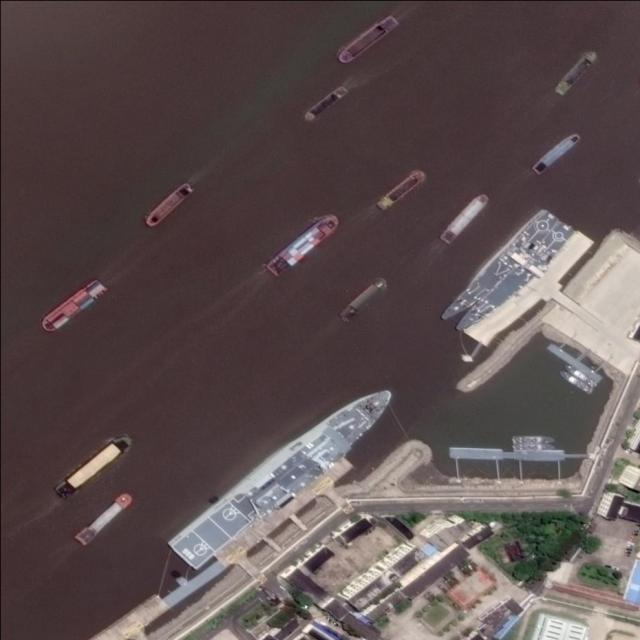Container Ship: (54, 430, 133, 502), (268, 210, 341, 279), (38, 276, 107, 335), (72, 489, 137, 549), (335, 14, 400, 68), (437, 190, 492, 246), (139, 180, 197, 232), (372, 165, 428, 216), (337, 274, 392, 325), (550, 47, 601, 100), (529, 129, 582, 178), (301, 83, 348, 125)
Landing: (167, 364, 400, 577), (454, 217, 576, 340), (438, 208, 560, 326)
Other Warship: (561, 361, 598, 390), (557, 368, 593, 396), (513, 436, 555, 445), (513, 444, 555, 450)
